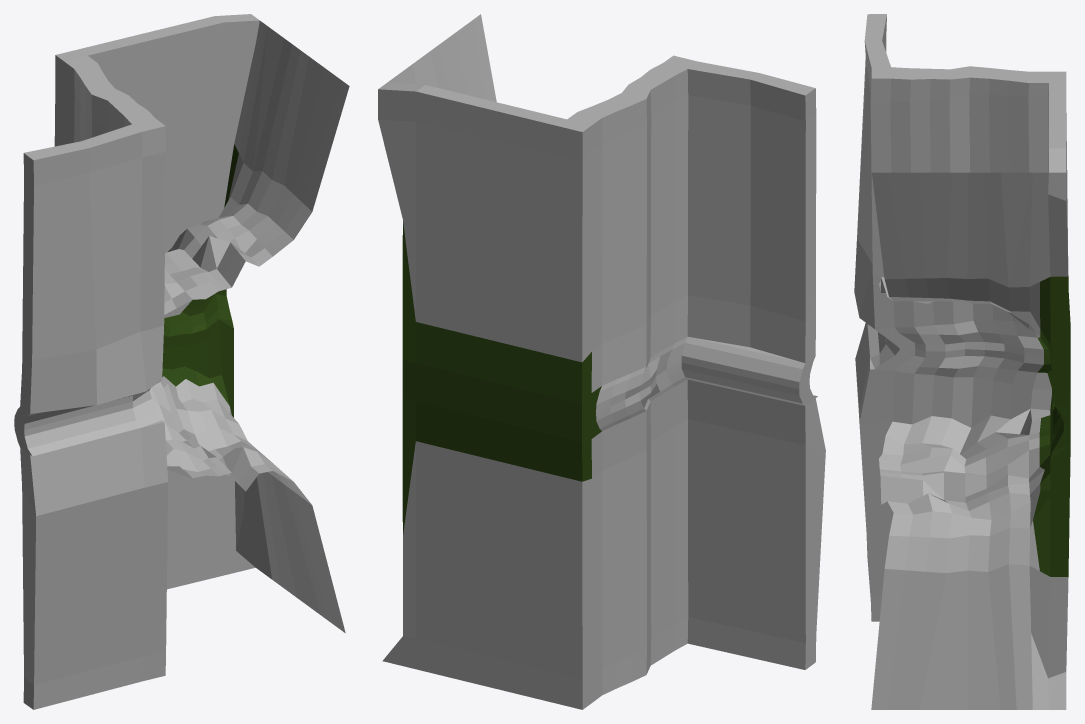
File: Terain 1.fbx
The picture shows the model from 3 angles, left to right: view 1: azimuth 30°, elevation 25°; view 2: azimuth 150°, elevation 25°; view 3: azimuth 270°, elevation 25°; orthographic projection. The views are drawn at different scales.
Visible parts, largest first — view 1: Cube; view 2: Cube; view 3: Cube.
Part boxes in pixels (x1=…): Cube: x1=14, y1=14, x2=349, y2=709; Cube: x1=378, y1=14, x2=825, y2=709; Cube: x1=854, y1=14, x2=1070, y2=709.
Size of the model in its own units: 6785 by 11142 by 4002.
